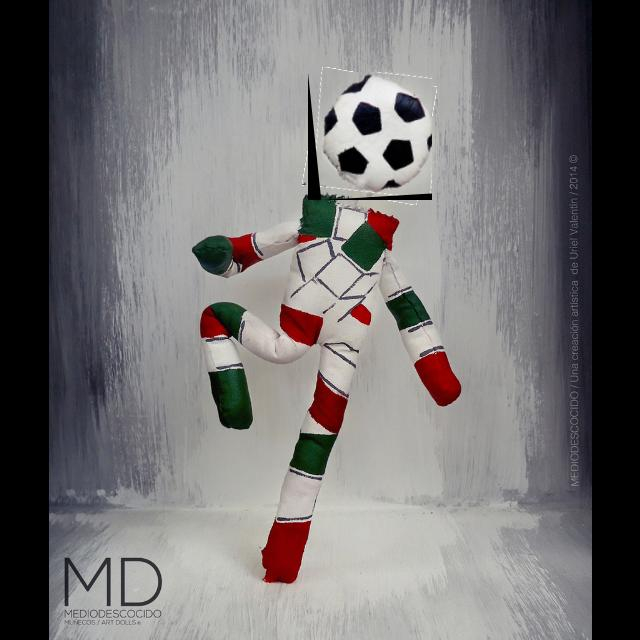Football: (308, 72, 432, 200)
